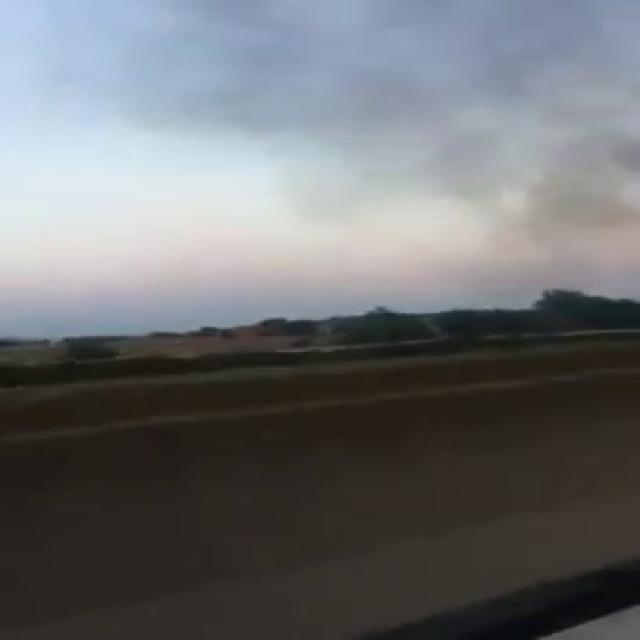smoke: (442, 4, 634, 308)
